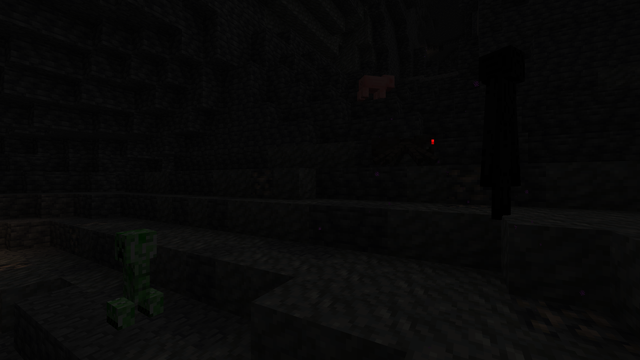araignees: (374, 127, 435, 167)
cochons: (358, 72, 385, 101)
creepers: (110, 224, 161, 329)
endermens: (480, 37, 525, 218)
